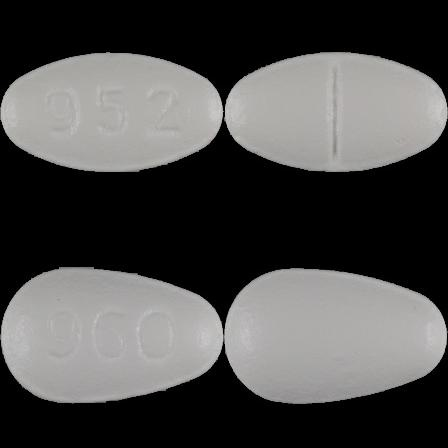0006-0952: (0, 0, 224, 224)
